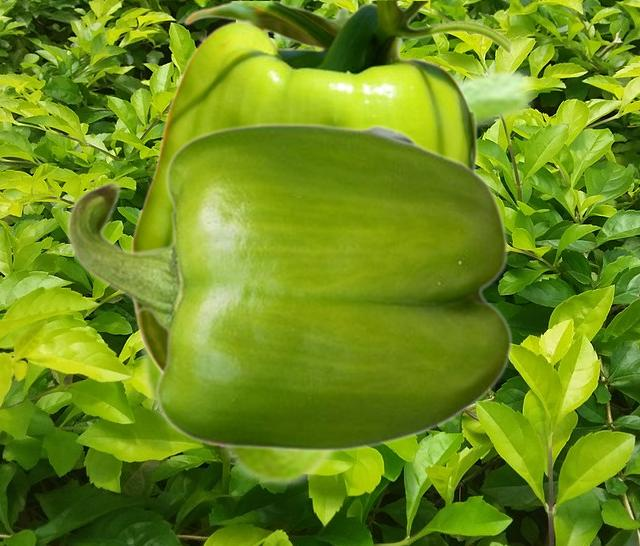bell_pepper: (136, 65, 538, 488), (129, 1, 512, 438), (66, 122, 512, 452)
